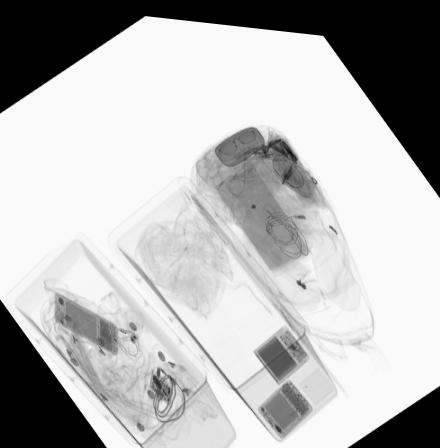Powerbank: (251, 315, 311, 380)
